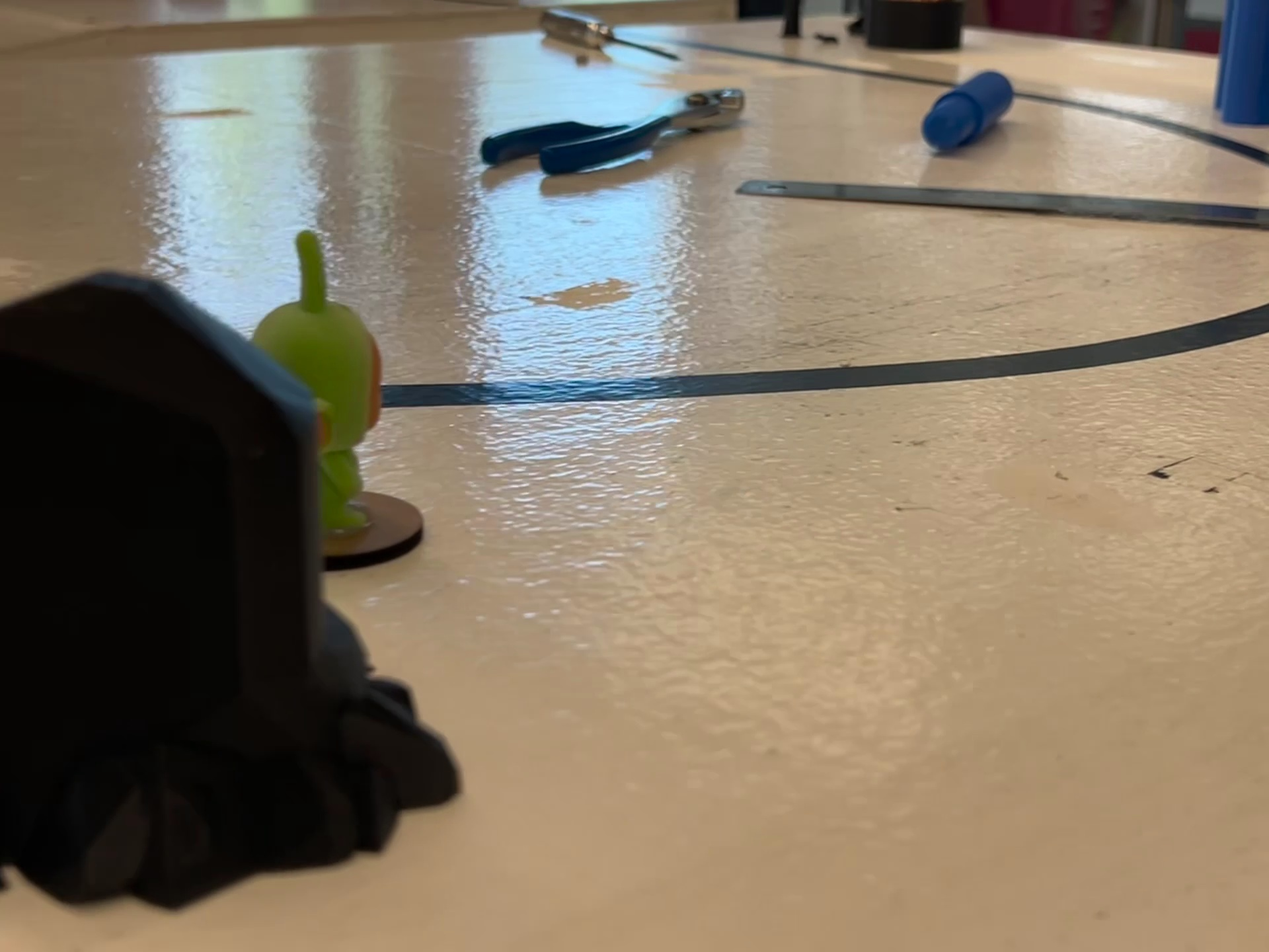teletubby: (251, 231, 381, 531)
